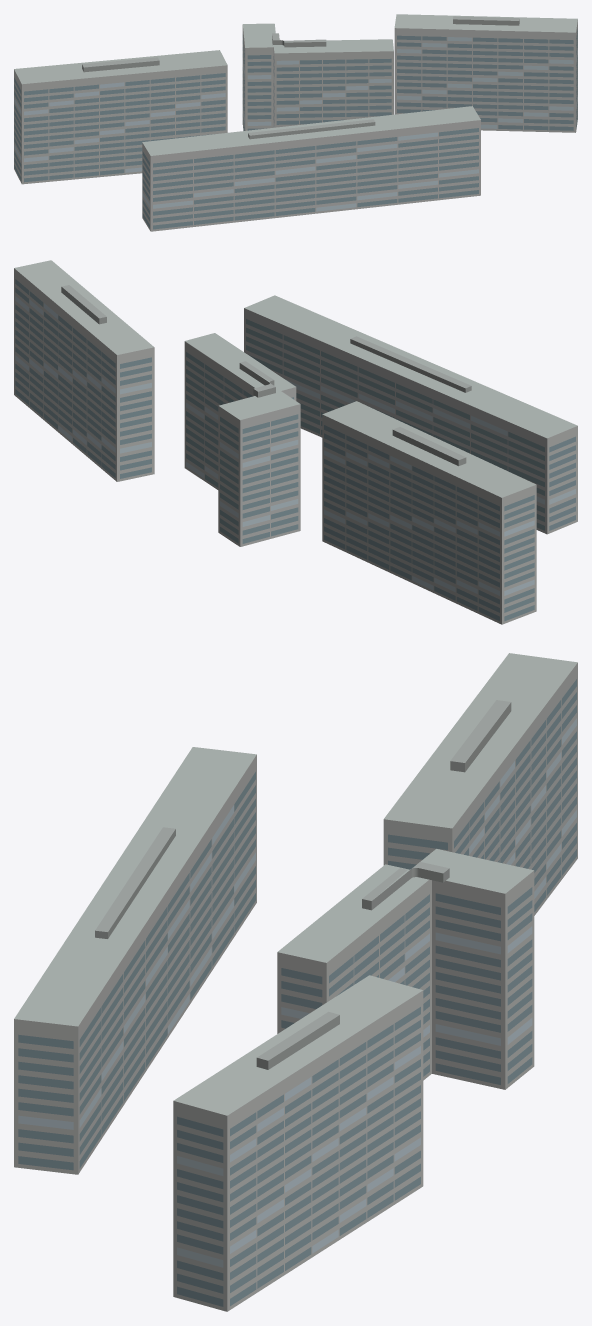
Rendered from apt-a15288804.glb.
3 renders of one model, top to bottom at view 1: azimuth 30°, elevation 25°; view 2: azimuth 150°, elevation 25°; view 3: azimuth 270°, elevation 25°, orthographic. The views are drawn at different scales.
Visible parts, largest first — view 1: apt-a15288804; view 2: apt-a15288804; view 3: apt-a15288804.
Boxes of the visible parts, bbox=[...] form: apt-a15288804: bbox=[14, 14, 577, 231]; apt-a15288804: bbox=[14, 260, 577, 624]; apt-a15288804: bbox=[14, 653, 577, 1311].
Bounding box in the file's own units: 198 × 41 × 102.
